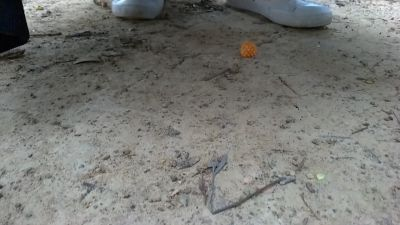eggs: (239, 39, 258, 61)
